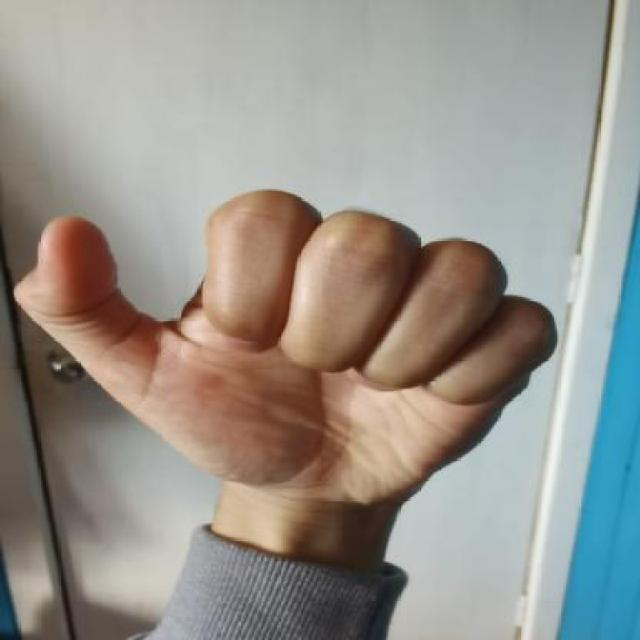E: (6, 160, 592, 526)
